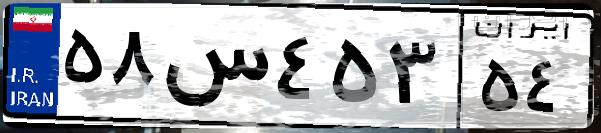3: (385, 28, 445, 110)
4: (270, 28, 330, 110), (525, 38, 570, 115)
5: (330, 28, 385, 110), (57, 26, 110, 100), (475, 38, 525, 113)
8: (110, 28, 158, 98)
س: (158, 20, 270, 120)
